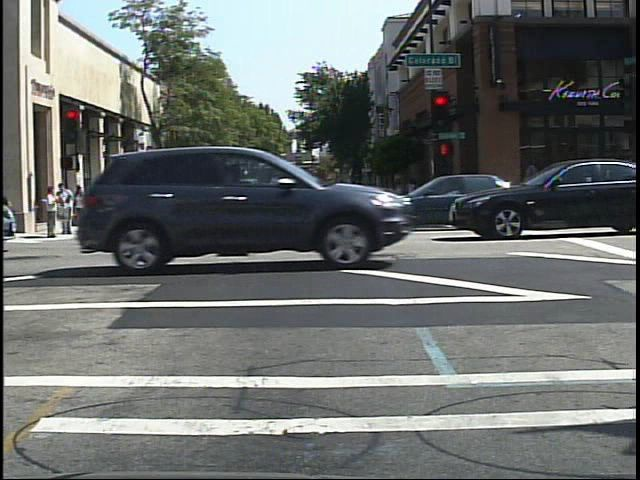person: (162, 181, 179, 217), (89, 187, 103, 228), (137, 180, 155, 211)
